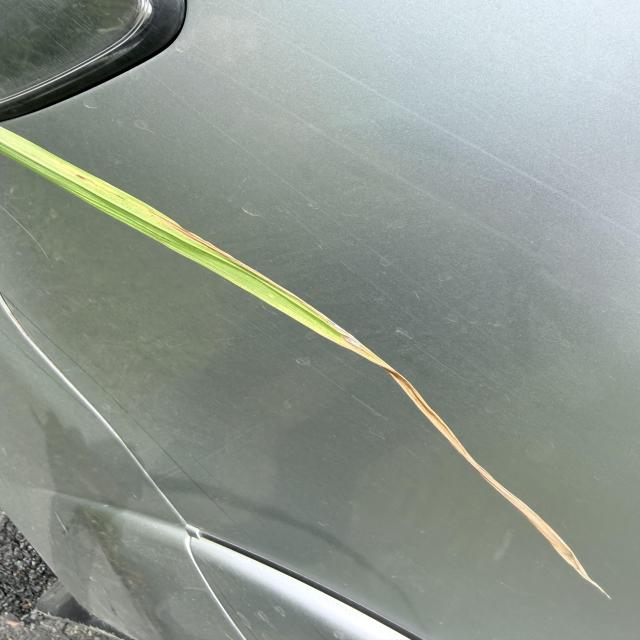Chay bia la: (153, 208, 614, 597)
